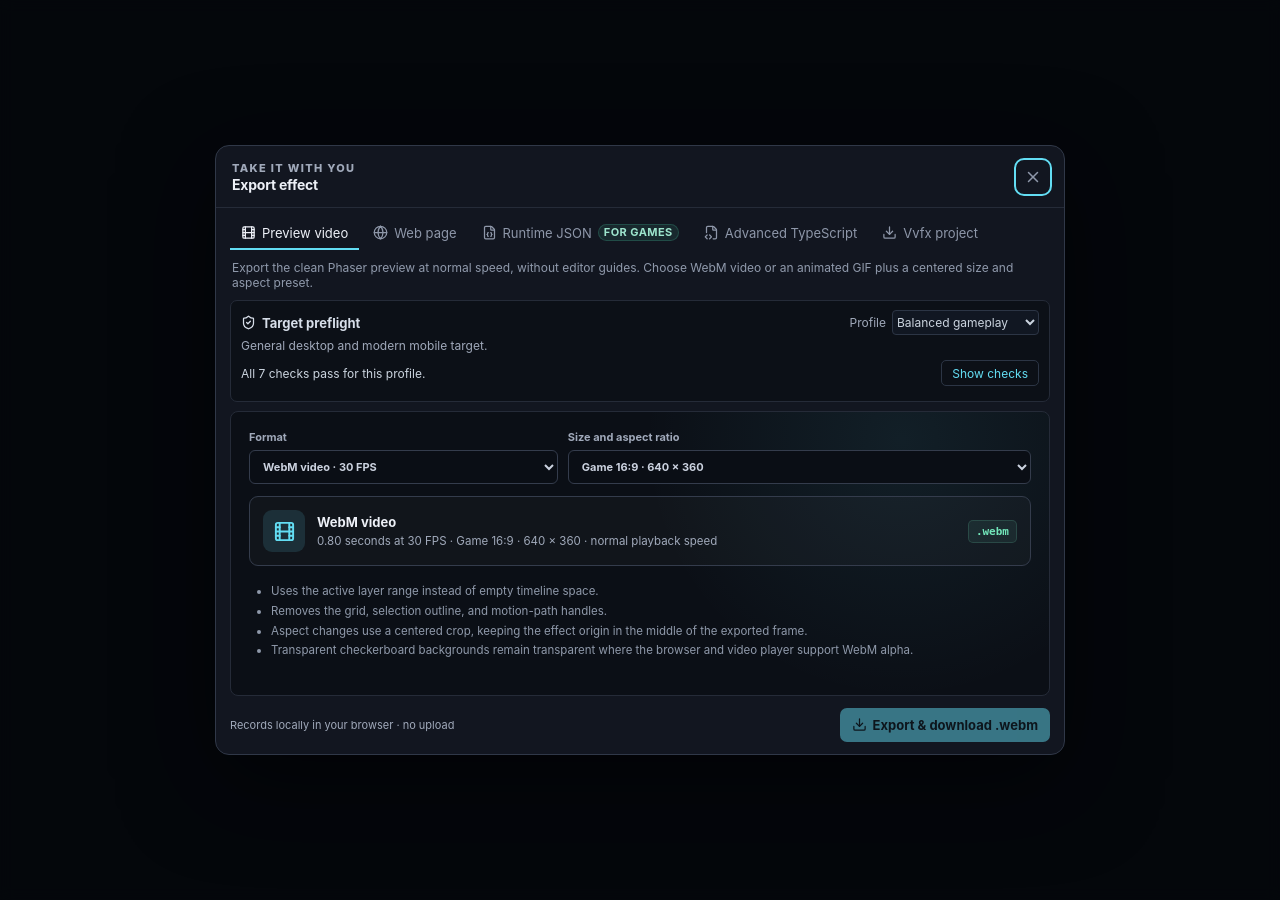
Test: ExportDialog clipboard and WebM capability state › hands focus between the keyboard-operated start and cancel actions
Select "Animated GIF · 15 FPS" in the dropdown labelled "Format" at (403, 467), box [249,450,558,484]
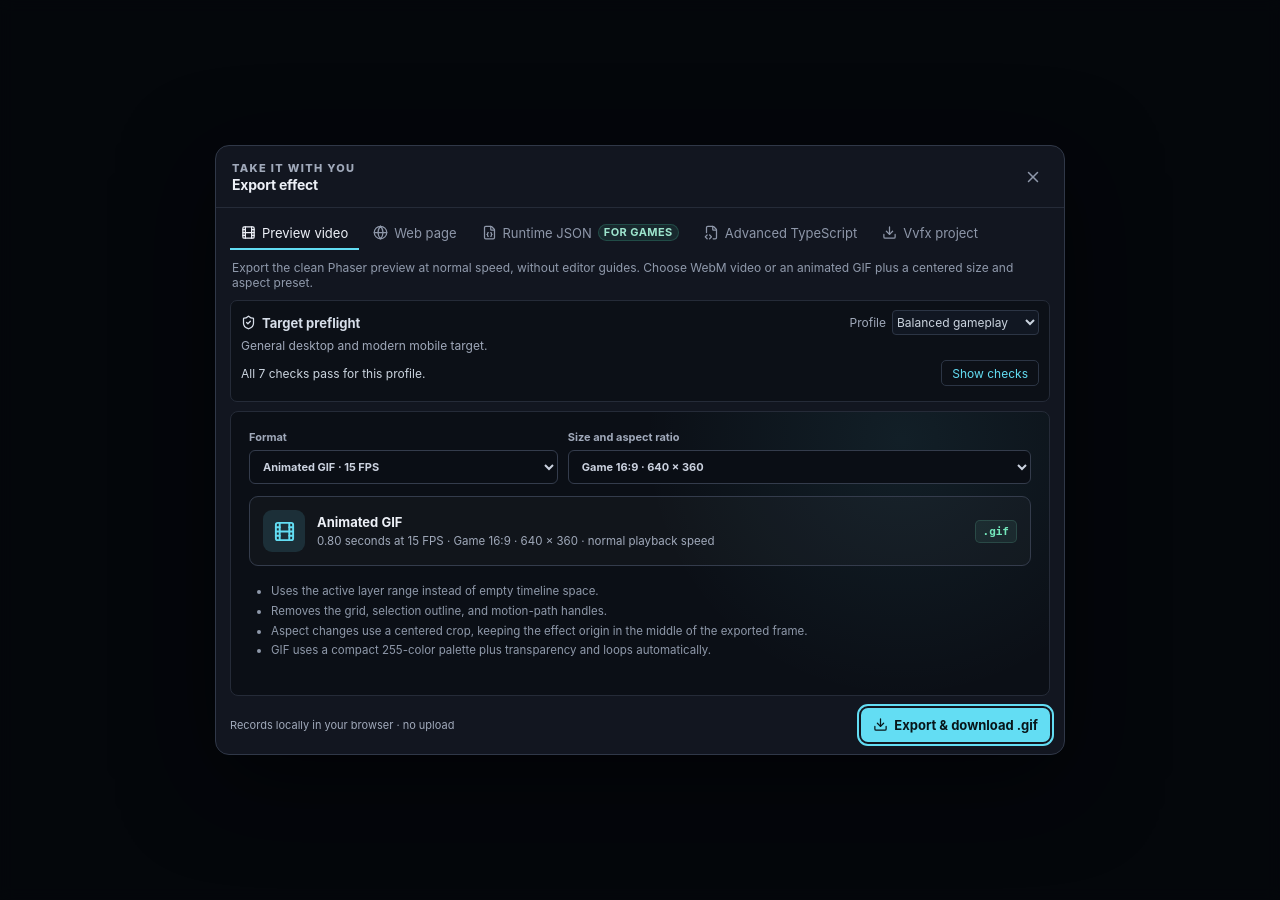
Click the button "Export & download .gif" at (956, 725), box [861,708,1050,742]
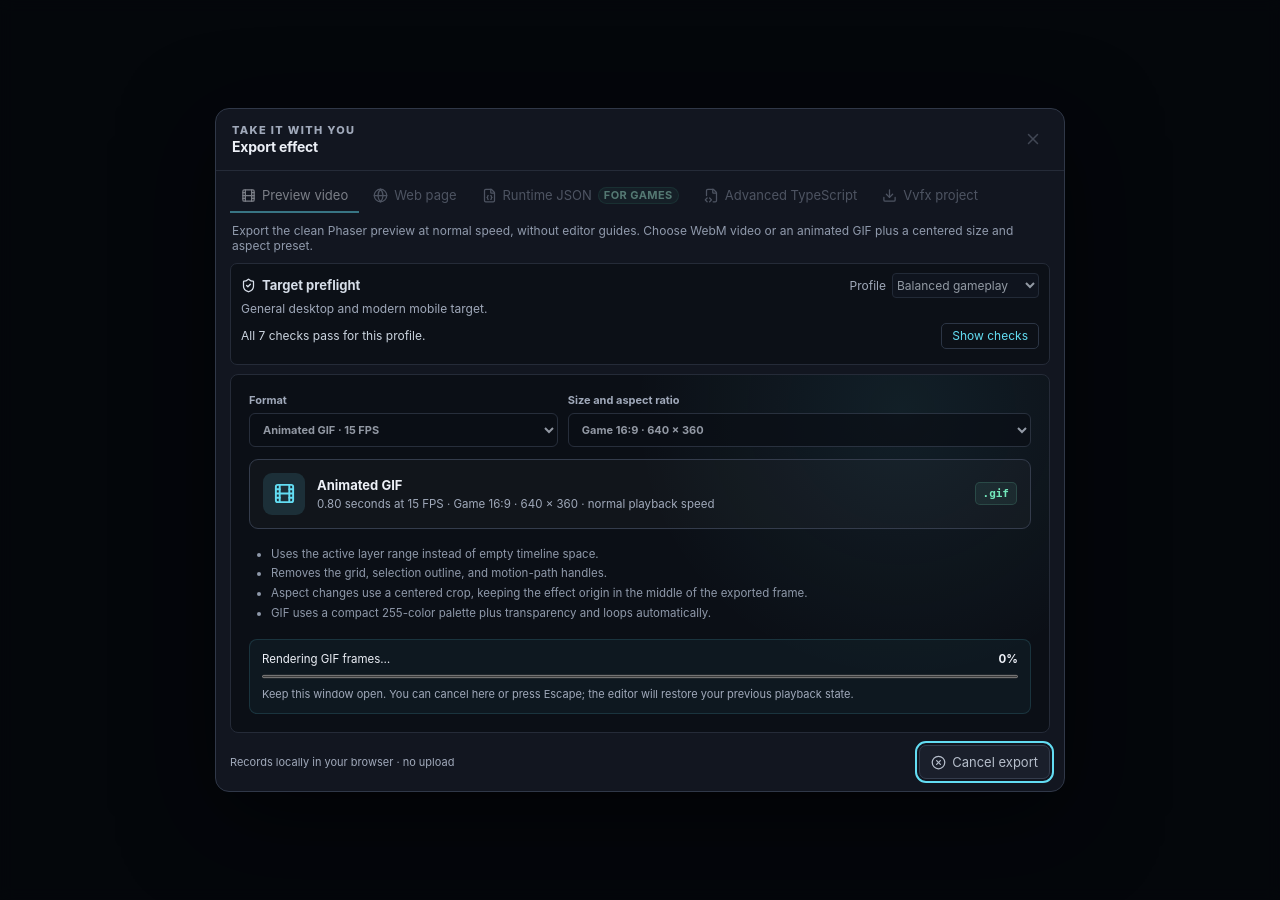
Click the button "Cancel export" at (985, 762), box [919,745,1050,779]
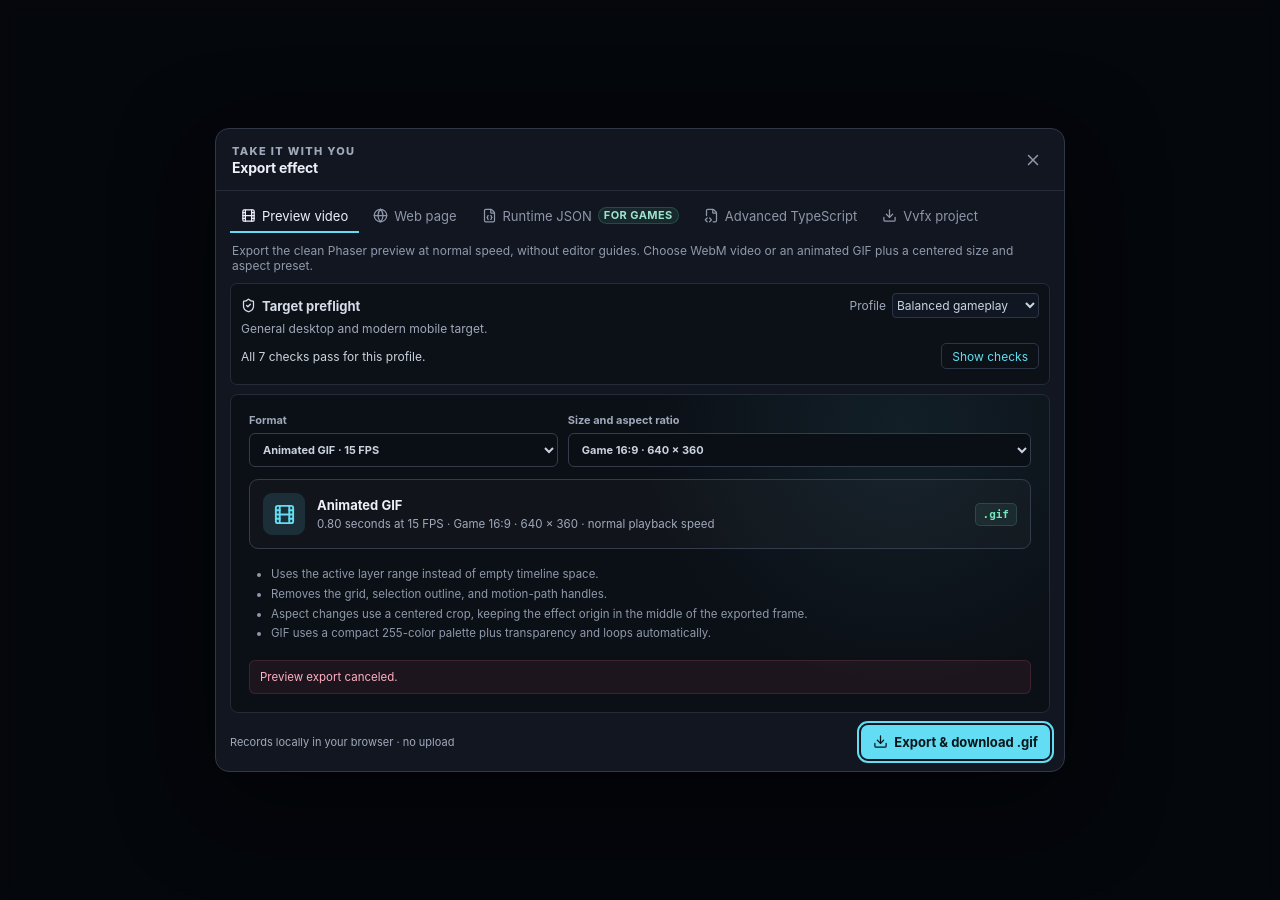
Now the message reads "Preview export canceled.", box [260,670,398,684]
